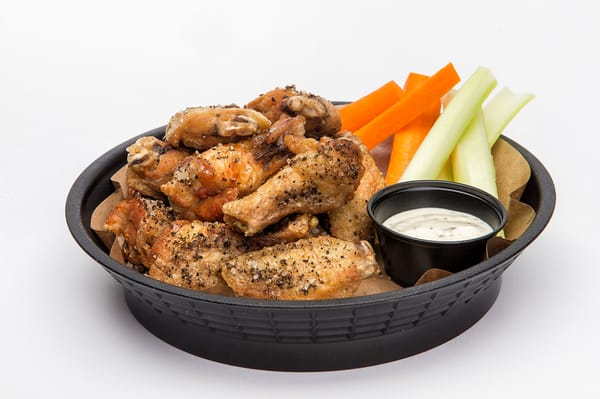sushi: (64, 96, 579, 374), (366, 180, 508, 288)
